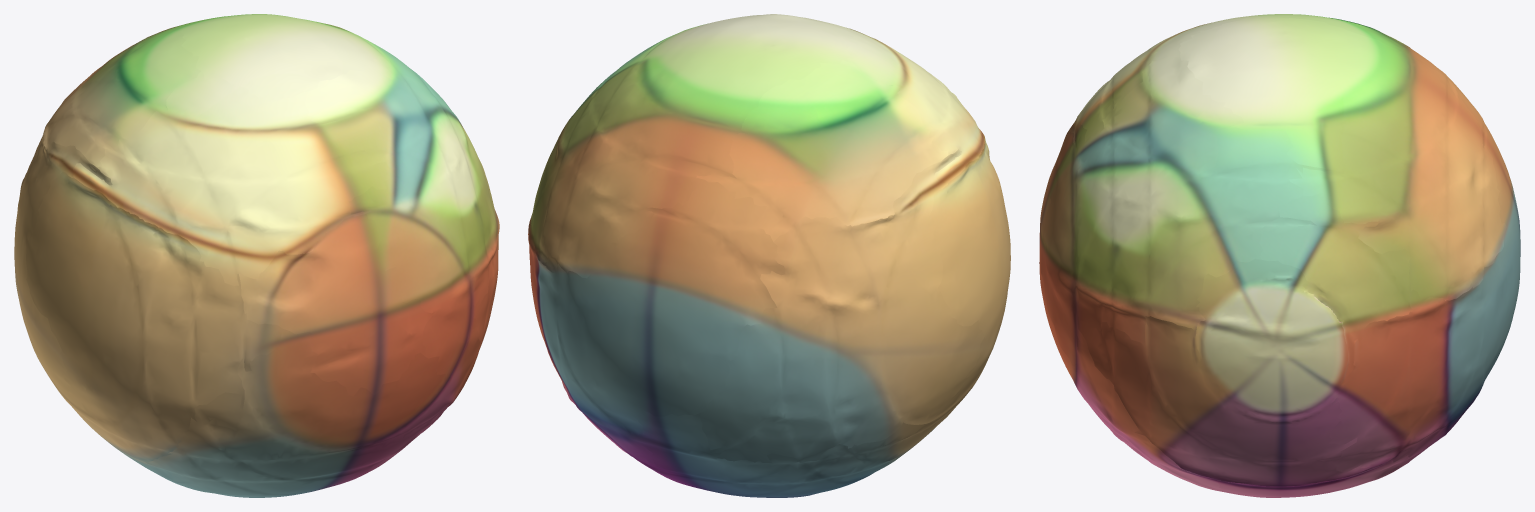
File: beachball.fbx
The picture shows the model from 3 angles, left to right: view 1: azimuth 30°, elevation 25°; view 2: azimuth 150°, elevation 25°; view 3: azimuth 270°, elevation 25°; orthographic projection.
Visible parts, largest first — view 1: tmp77c3yamr.ply; view 2: tmp77c3yamr.ply; view 3: tmp77c3yamr.ply.
Part boxes in pixels (left/top/right/bottom): tmp77c3yamr.ply: left=14, top=14, right=499, bottom=497; tmp77c3yamr.ply: left=528, top=14, right=1010, bottom=497; tmp77c3yamr.ply: left=1039, top=14, right=1520, bottom=497.
Size of the model in its own units: 43.29 by 43.1 by 43.15.
Materials: 1 (1 with a texture image).
